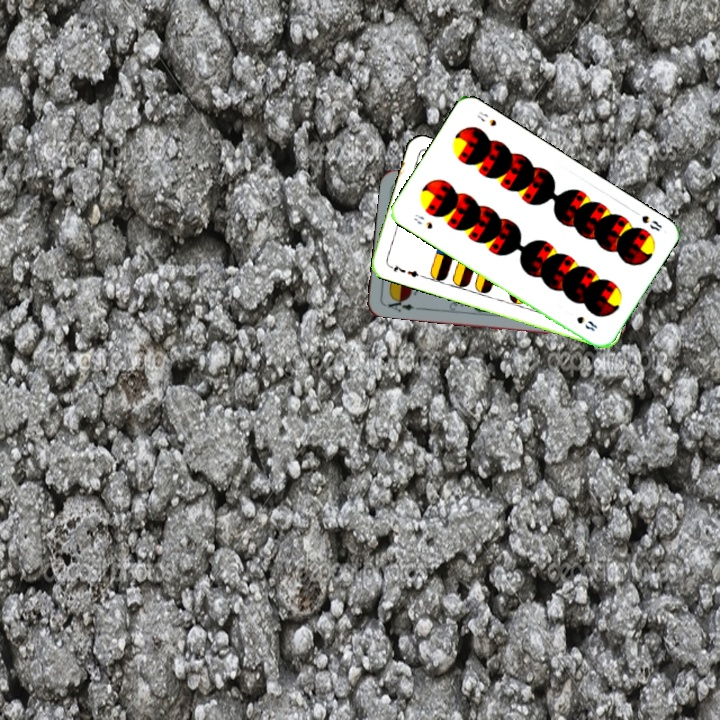E7: (385, 261, 424, 280)
EA: (381, 293, 422, 314)
S8: (629, 206, 664, 234), (409, 210, 435, 232)
